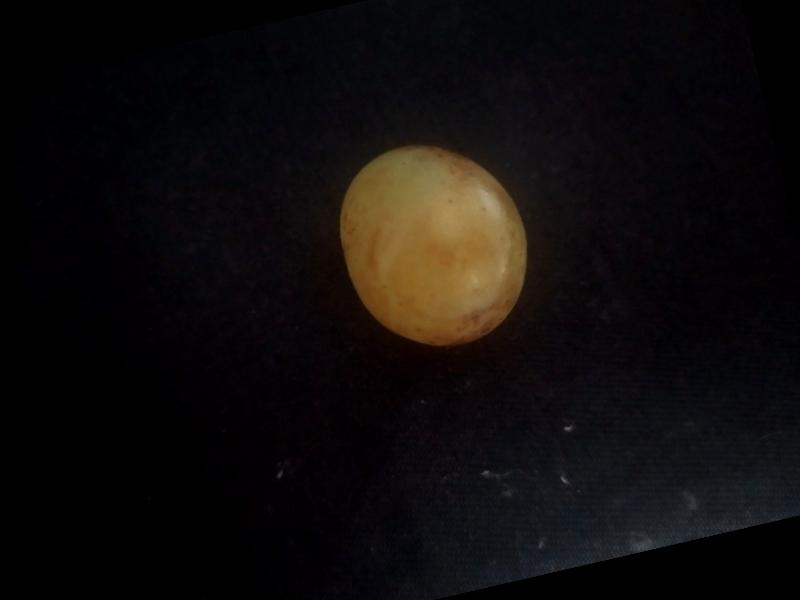Grape Rotten: (318, 120, 550, 371)
